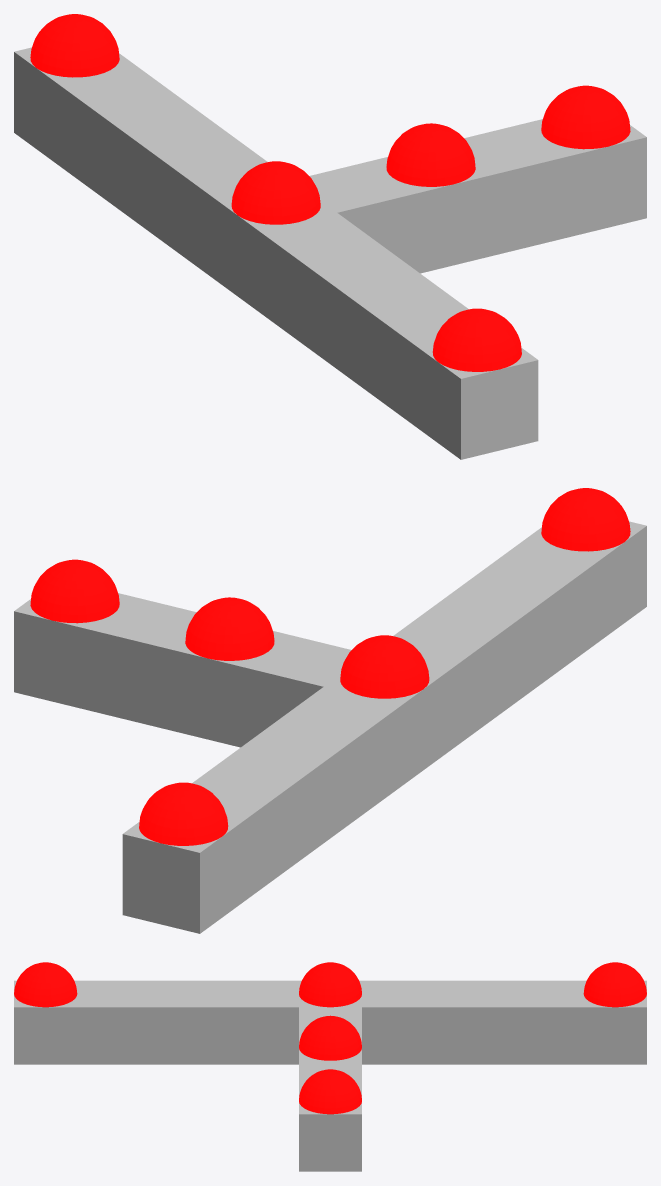
File: ir_marker_5.dae
3 renders of one model, top to bottom at view 1: azimuth 30°, elevation 25°; view 2: azimuth 150°, elevation 25°; view 3: azimuth 270°, elevation 25°, orthographic. The views are drawn at different scales.
Parts seen in each view (by area): view 1: bar_lr, bar_fb, marker_c, marker_l, marker_r, marker_i, marker_f; view 2: bar_lr, bar_fb, marker_c, marker_l, marker_r, marker_i, marker_f; view 3: bar_lr, bar_fb, marker_l, marker_r, marker_c, marker_f, marker_i.
Part boxes in pixels (left/top/right/bottom): bar_lr: left=14, top=47, right=538, bottom=459; bar_fb: left=309, top=119, right=646, bottom=273; marker_c: left=231, top=161, right=320, bottom=224; marker_l: left=30, top=14, right=119, bottom=77; marker_r: left=432, top=308, right=521, bottom=371; marker_i: left=386, top=123, right=475, bottom=186; marker_f: left=541, top=85, right=630, bottom=149; bar_lr: left=122, top=521, right=646, bottom=933; bar_fb: left=14, top=593, right=351, bottom=747; marker_c: left=340, top=635, right=429, bottom=698; marker_l: left=139, top=782, right=228, bottom=845; marker_r: left=541, top=488, right=630, bottom=551; marker_i: left=185, top=597, right=274, bottom=660; marker_f: left=30, top=559, right=119, bottom=623; bar_lr: left=14, top=980, right=646, bottom=1064; bar_fb: left=299, top=1007, right=361, bottom=1171; marker_l: left=583, top=962, right=646, bottom=1007; marker_r: left=14, top=962, right=77, bottom=1007; marker_c: left=299, top=962, right=361, bottom=1007; marker_f: left=299, top=1069, right=361, bottom=1114; marker_i: left=299, top=1015, right=361, bottom=1060.
Size of the model in its own units: 0.05 by 0.1 by 0.015.
